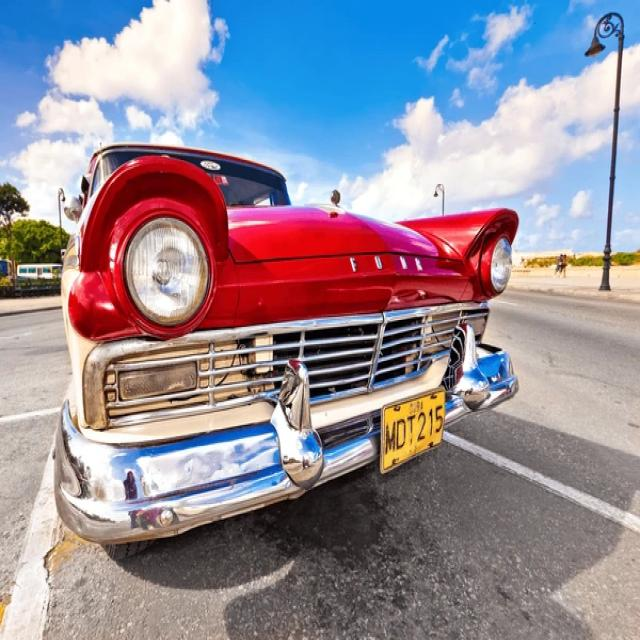ford: (338, 244, 444, 287)
